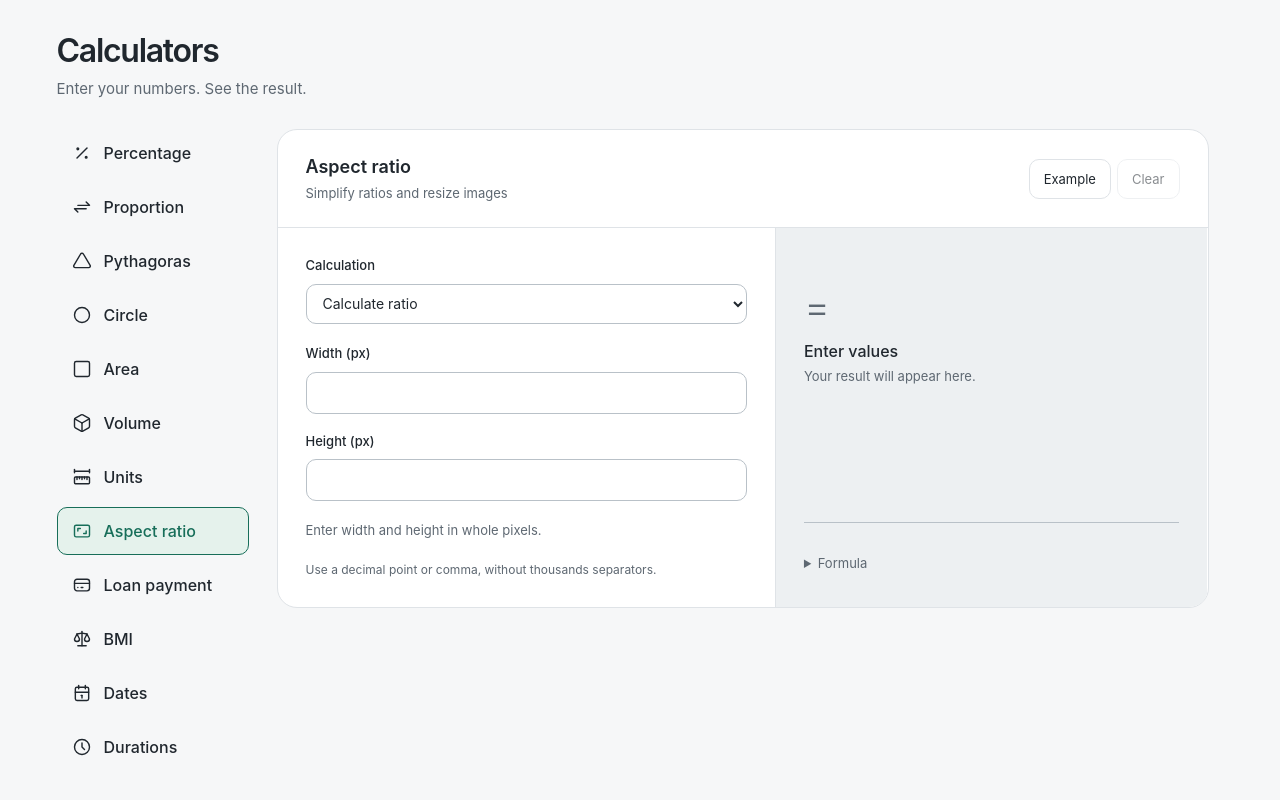
Test: calculator workspace › renders the integrated aspect ratio calculator in English with exact ratio and resize
The image size is (1280, 800).
Check: the heading "Calculators" is shown, box x1=56 y1=31 x2=218 y2=70
Type "1920" into the field labelled "Width (px)".
click(526, 393); type("1920")  # box x1=306 y1=372 x2=747 y2=414
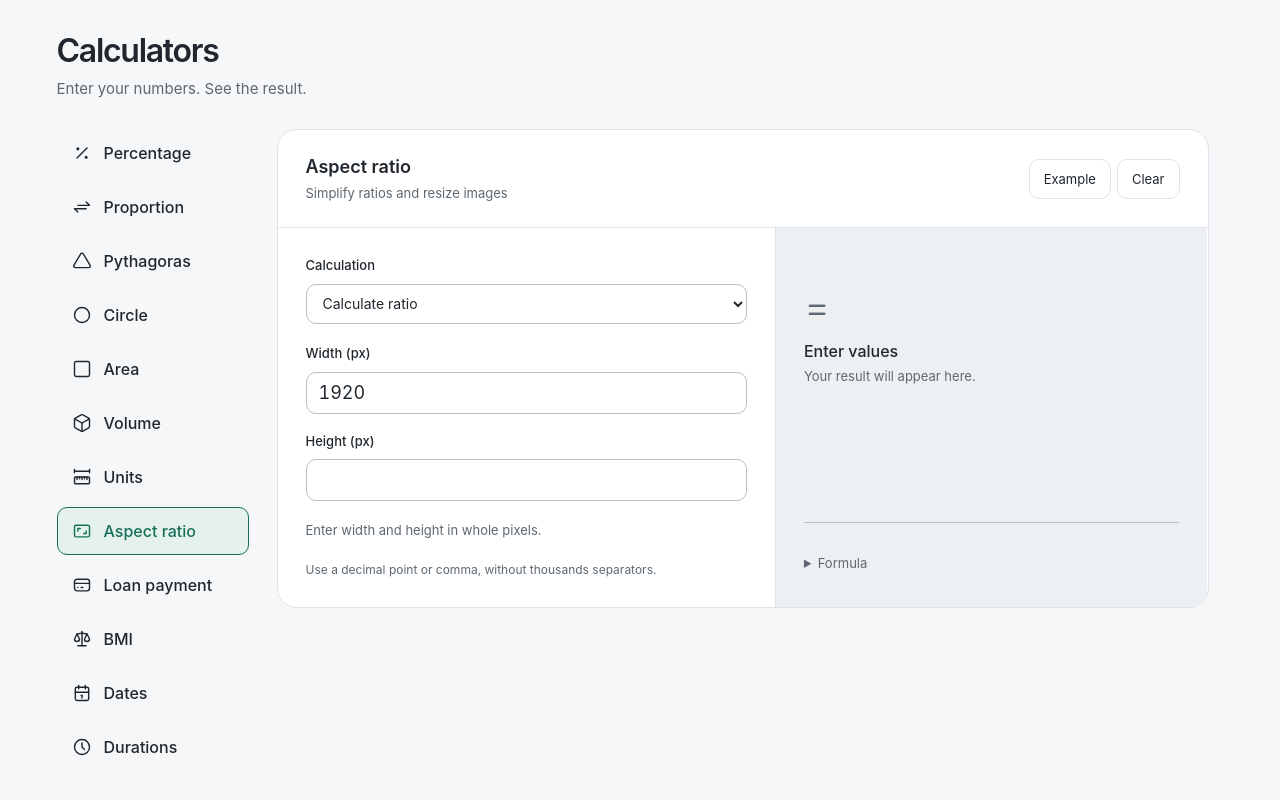
Type "1080" into the field labelled "Height (px)".
click(526, 480); type("1080")  # box x1=306 y1=459 x2=747 y2=502
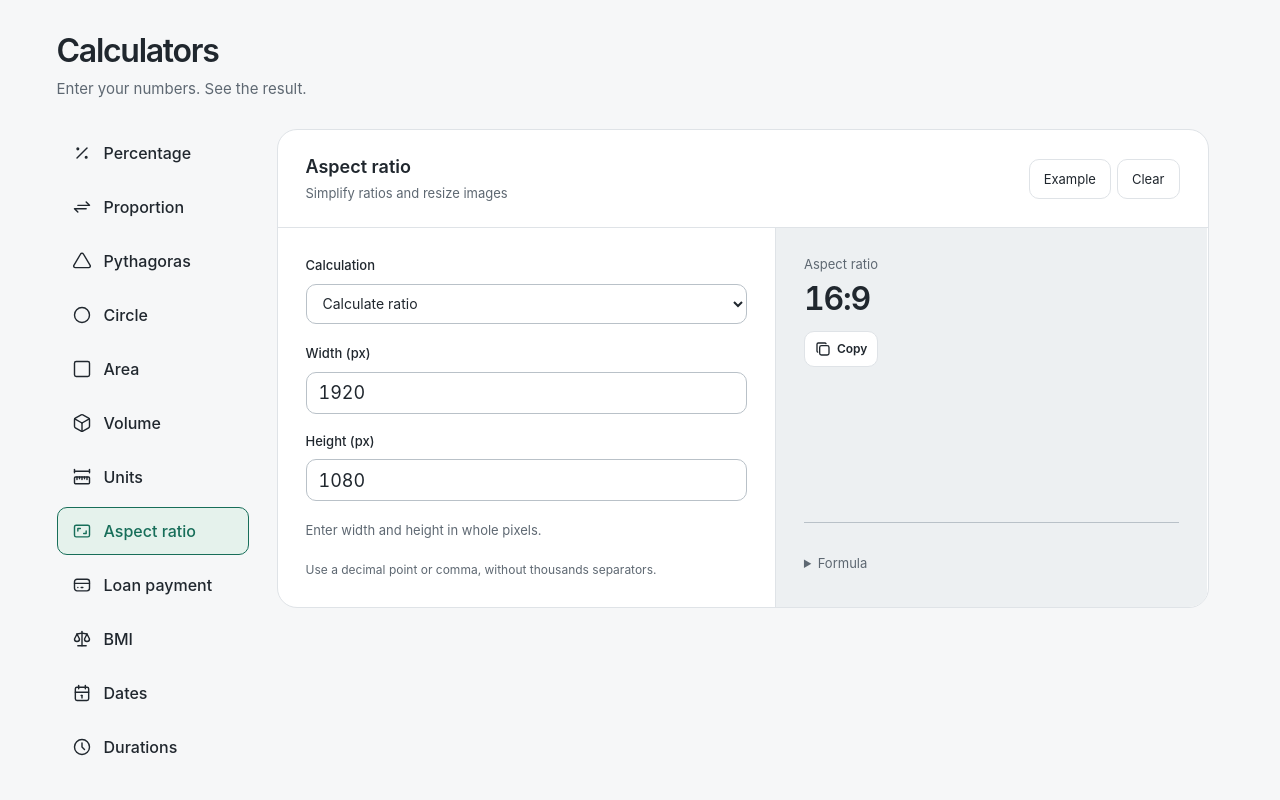
Check: the text with test id "result-ratio" reads "16:9", box x1=804 y1=279 x2=870 y2=318
Select "Resize" in the dropdown labelled "Calculation" at (526, 304), box x1=306 y1=284 x2=747 y2=324
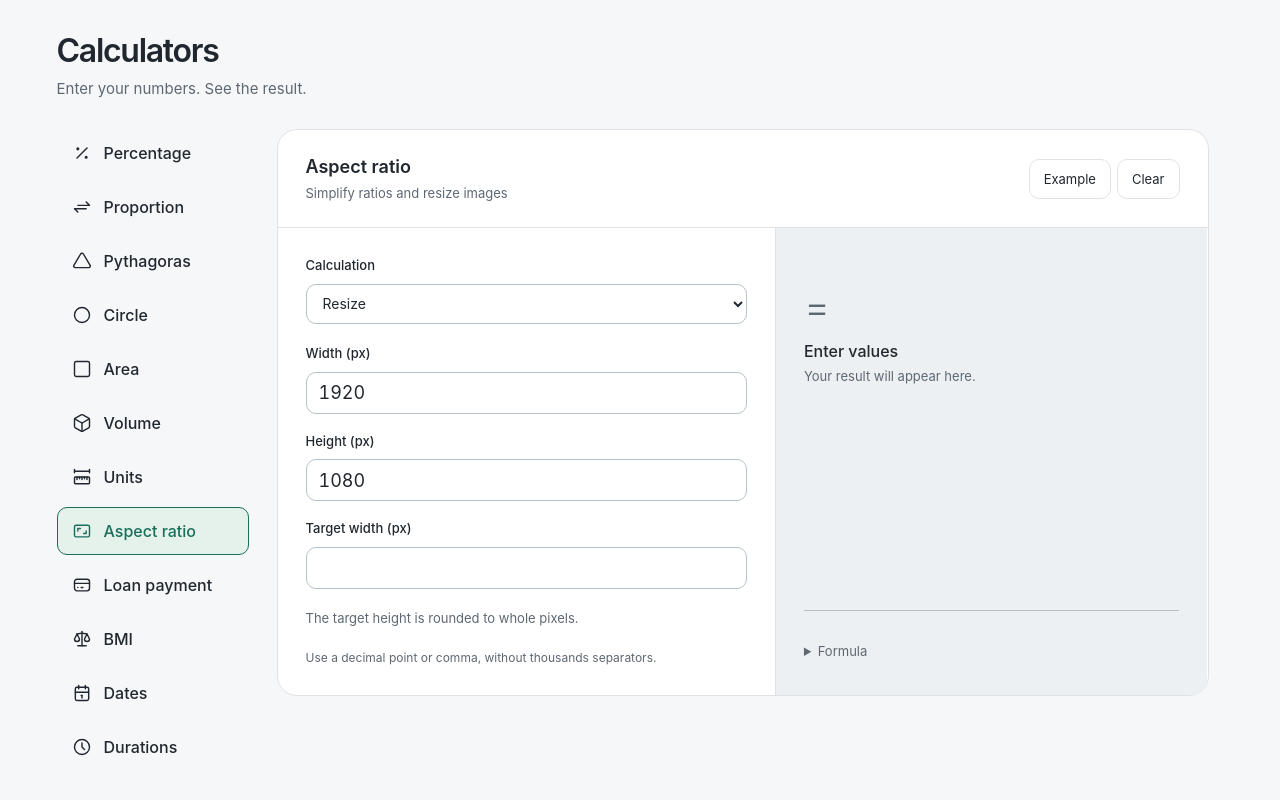
Type "1280" into the field labelled "Target width (px)".
click(526, 568); type("1280")  # box x1=306 y1=547 x2=747 y2=589
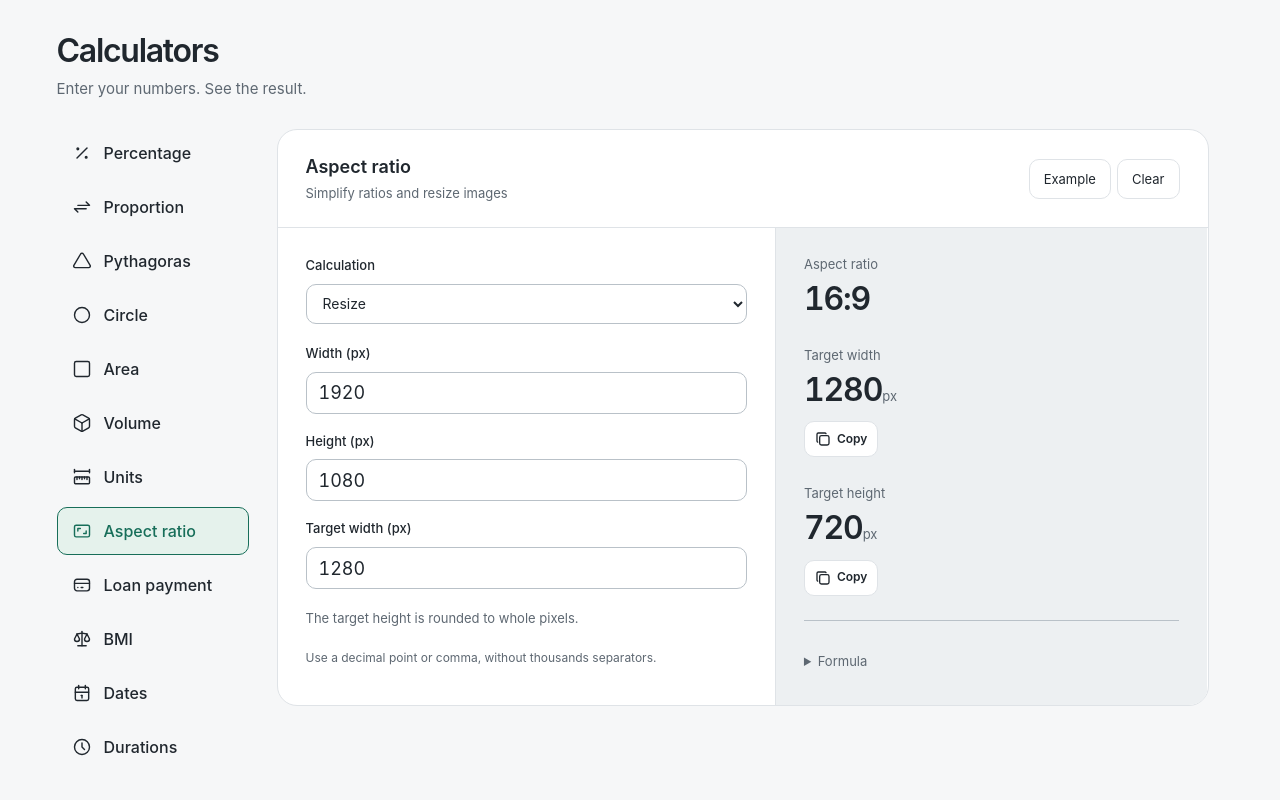
Check: the element with test id "result-targetHeight" shows "720", box x1=804 y1=508 x2=863 y2=547
